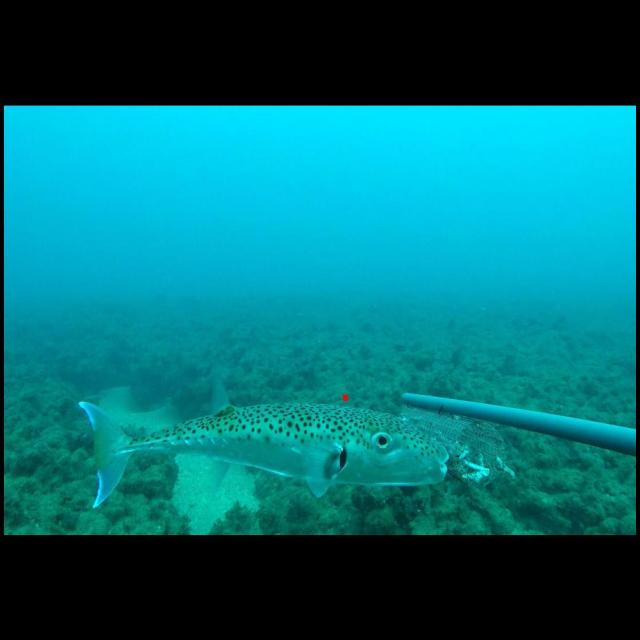Balon Baligi: (79, 400, 449, 509)
